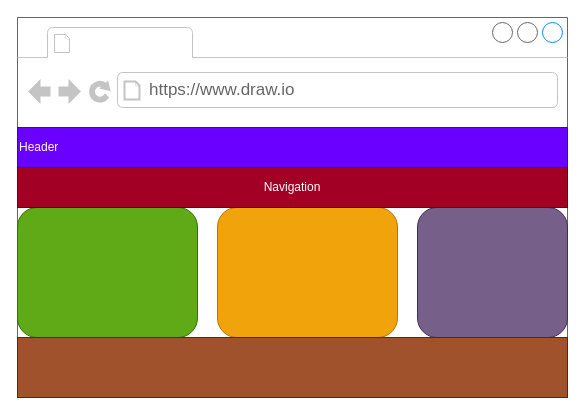
Image size: 585x415. Some labels were removed from this diagram. Here are the shapes that lost their labels. From the top down, the box of each, then its label:
(76, 28, 188, 56): Home
(16, 336, 568, 398): Footer
